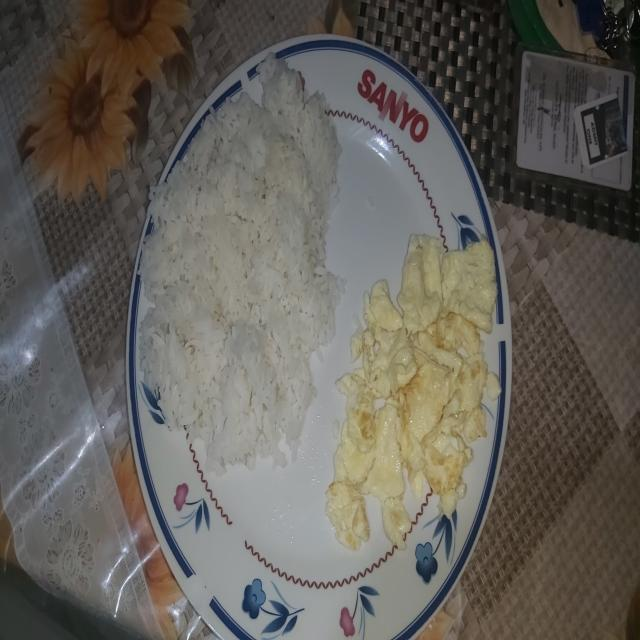Chicken -Chicken Inasal-: (139, 54, 330, 453)
